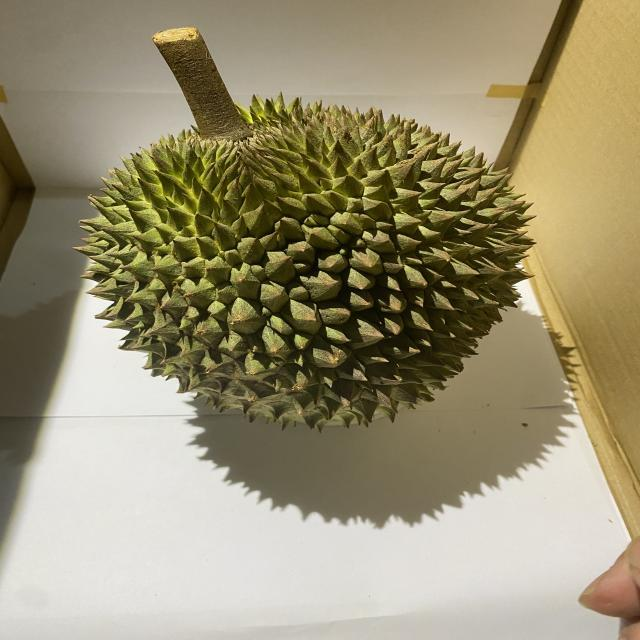immature: (71, 91, 539, 434)
